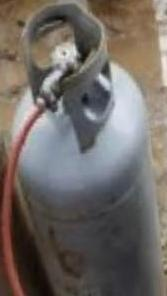cylinder: (1, 1, 167, 296)
